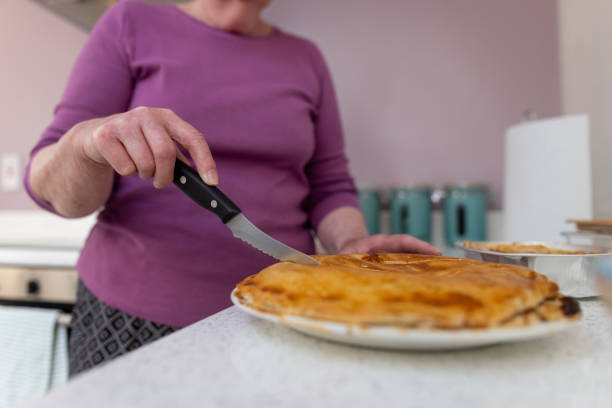knife: (173, 158, 323, 267)
